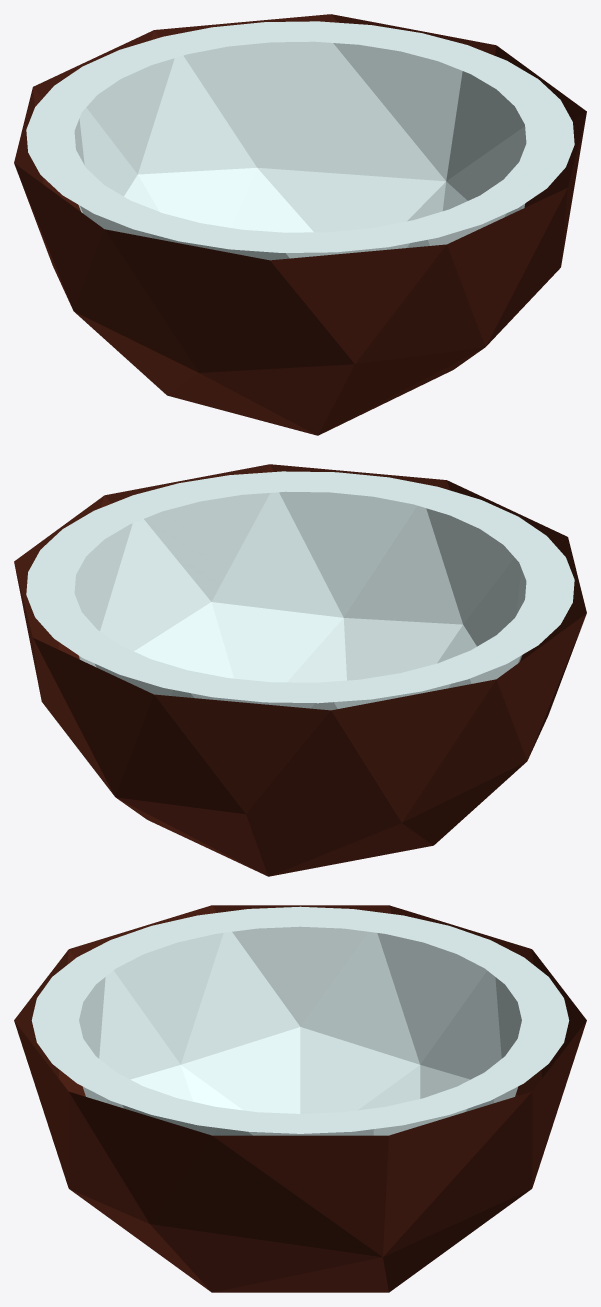
The model's file is coconut.obj.
The picture shows the model from 3 angles, top to bottom: view 1: azimuth 30°, elevation 25°; view 2: azimuth 150°, elevation 25°; view 3: azimuth 270°, elevation 25°; orthographic projection. The views are drawn at different scales.
Parts seen in each view (by area): view 1: Icosphere, Icosphere.001_Icosphere.002, Circle; view 2: Icosphere, Icosphere.001_Icosphere.002, Circle; view 3: Icosphere, Icosphere.001_Icosphere.002, Circle.
Part boxes in pixels (<box>): Icosphere: <box>14,14,586,435</box>; Icosphere.001_Icosphere.002: <box>74,41,526,260</box>; Circle: <box>26,21,574,252</box>; Icosphere: <box>14,464,586,876</box>; Icosphere.001_Icosphere.002: <box>74,491,526,710</box>; Circle: <box>26,471,574,703</box>; Icosphere: <box>14,905,586,1292</box>; Icosphere.001_Icosphere.002: <box>79,926,521,1135</box>; Circle: <box>31,906,569,1133</box>.
Bounding box in the file's own units: 1.9 × 0.9943 × 2.
